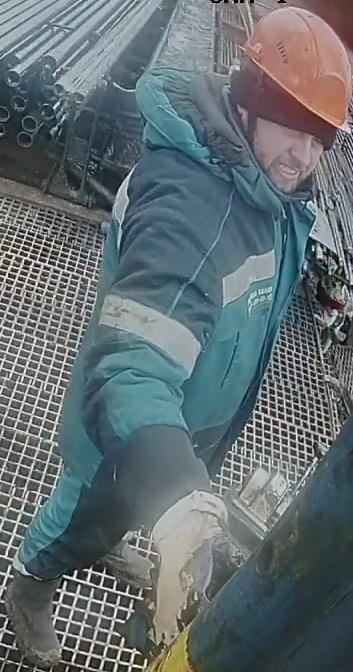gloves: (144, 484, 251, 656)
helmet: (241, 5, 352, 132)
vest: (48, 69, 318, 477)
